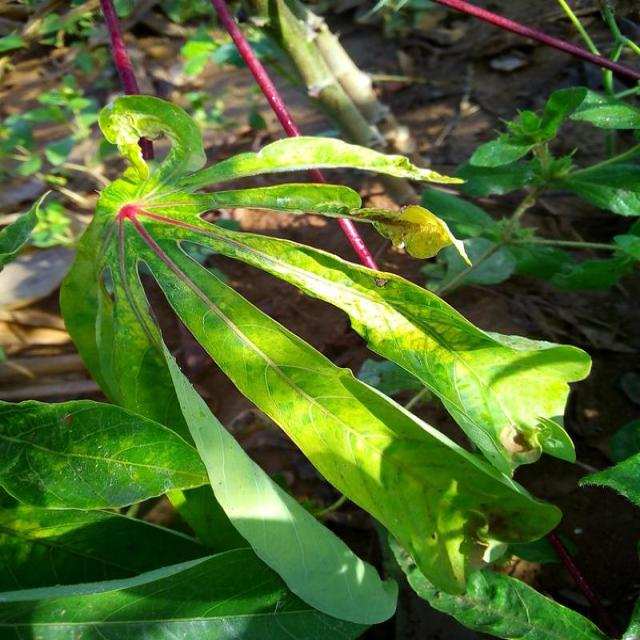cassava leaf: (57, 92, 596, 631)
